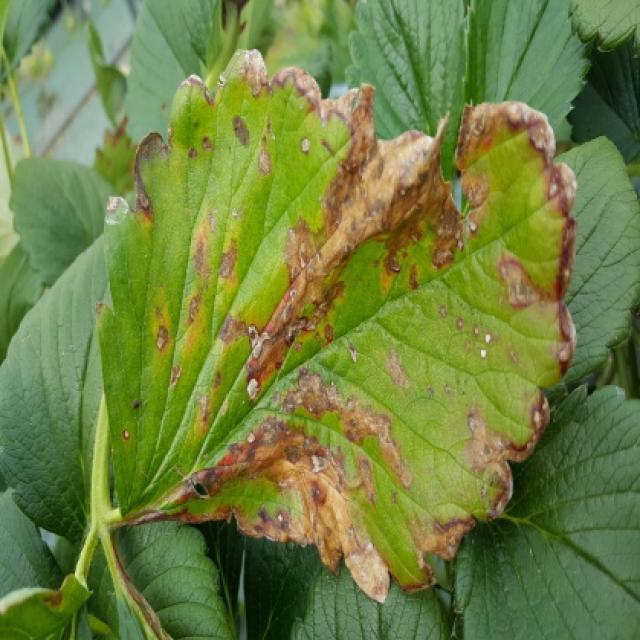Angular Leafspot: (92, 43, 582, 610)
